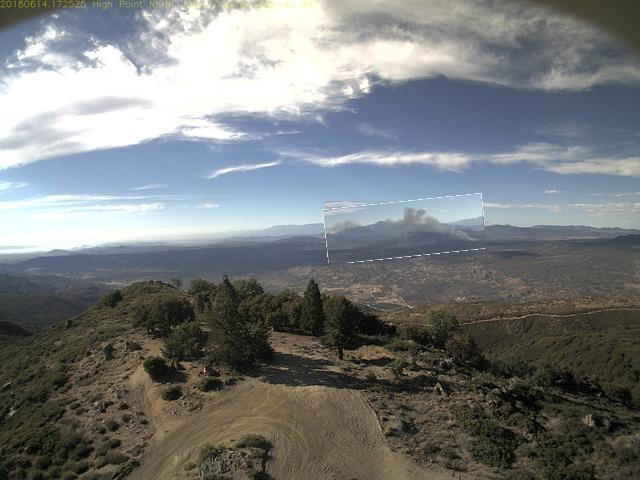smoke: (325, 198, 486, 261)
